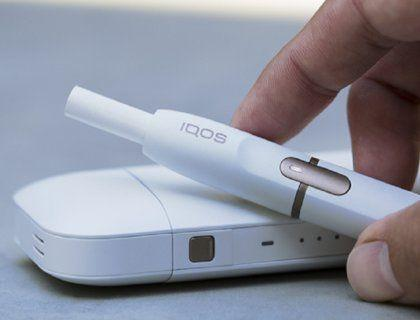iqos: (65, 86, 419, 237)
